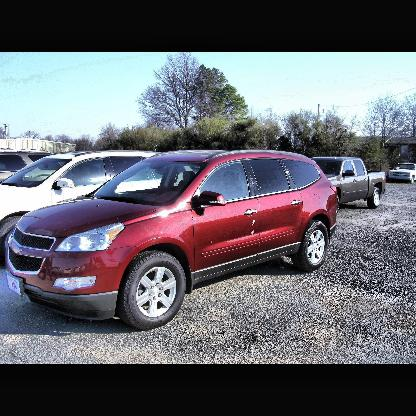Chevrolet Traverse SUV 2012: (4, 147, 341, 332)
